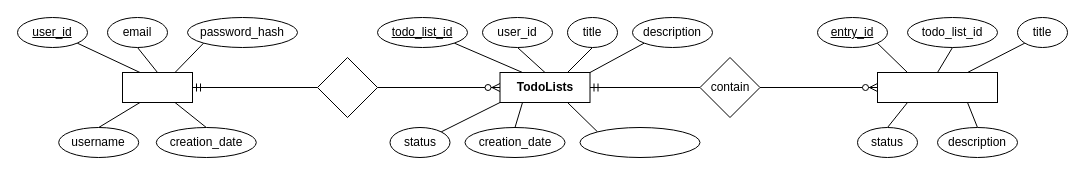
Some shapes in this 1085 by 175 pixel diagram are drawn without their labels. Here are the shapes that lost their labels. From the top down, the centre of each, then its label:
At pixel 157 87: "Users".
At pixel 347 87: "have".
At pixel 937 87: "TodoListEntries".
At pixel 639 142: "modification_date".
